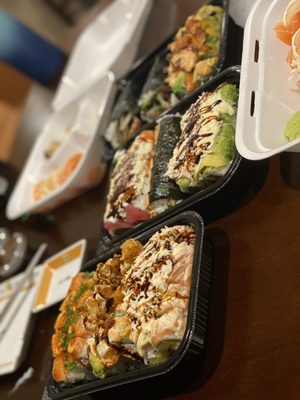soup: (163, 77, 240, 190)
sushi: (235, 0, 300, 162)
